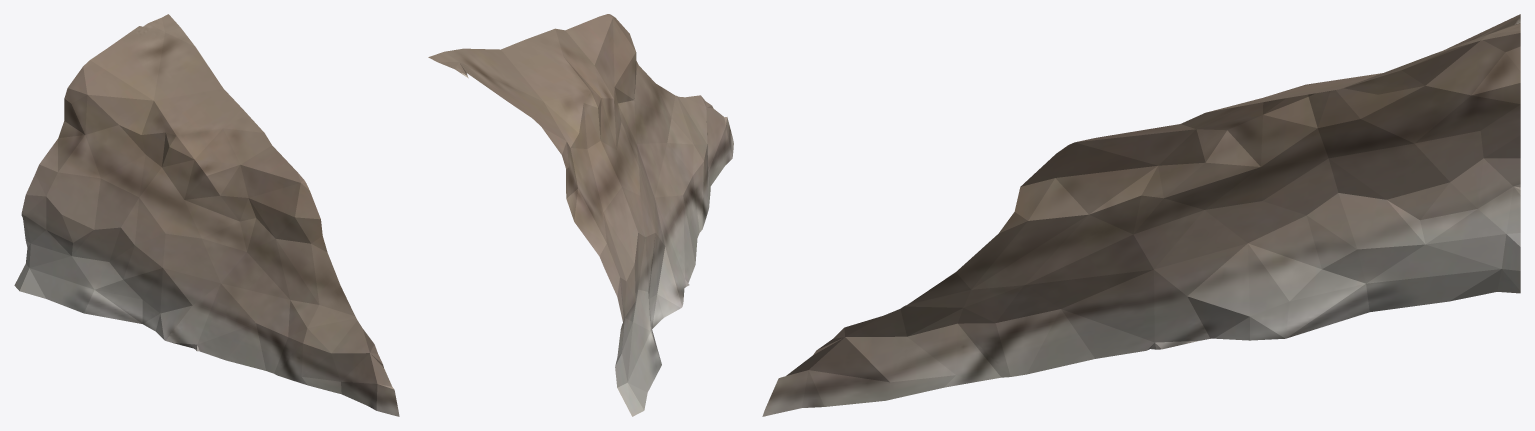
3 views of the same model, side by side, from view 1: azimuth 30°, elevation 25°; view 2: azimuth 150°, elevation 25°; view 3: azimuth 270°, elevation 25° (orthographic). The views are drawn at different scales.
Size of the model in its own units: 0.2956 by 0.4231 by 0.757.
Materials: 1 (1 with a texture image).
